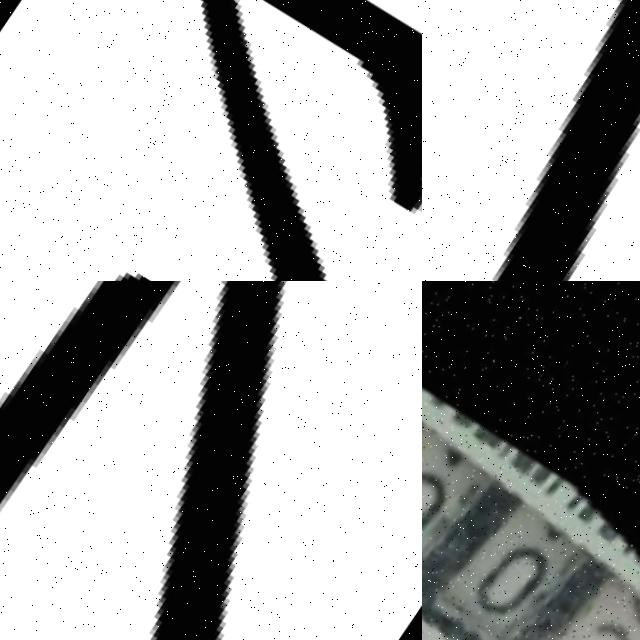0: (458, 525, 571, 640), (422, 455, 466, 573)
2: (0, 0, 422, 281)
5: (537, 607, 640, 640)
T: (422, 0, 640, 281)
V: (0, 281, 422, 640)
